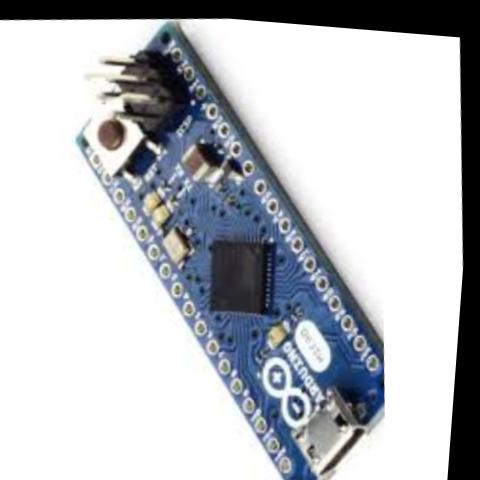Arduino-Micro: (42, 4, 420, 480)
